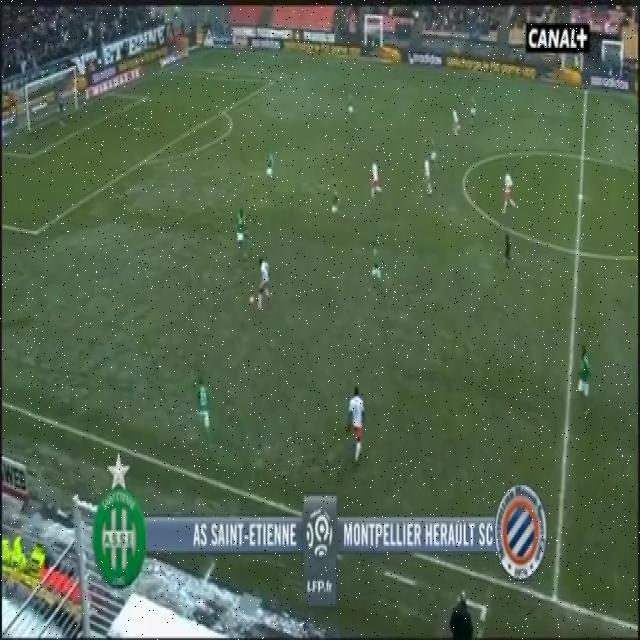ball: (243, 286, 261, 310)
player: (185, 349, 223, 466), (340, 396, 390, 472)
referee: (574, 331, 604, 427), (498, 226, 516, 278)
